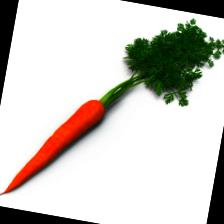carrot: (3, 86, 106, 207)
